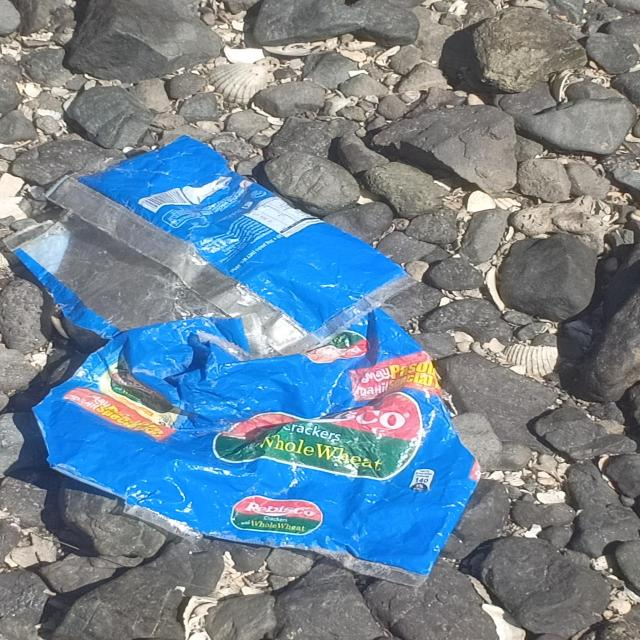plastic_waste: (3, 135, 483, 589)
